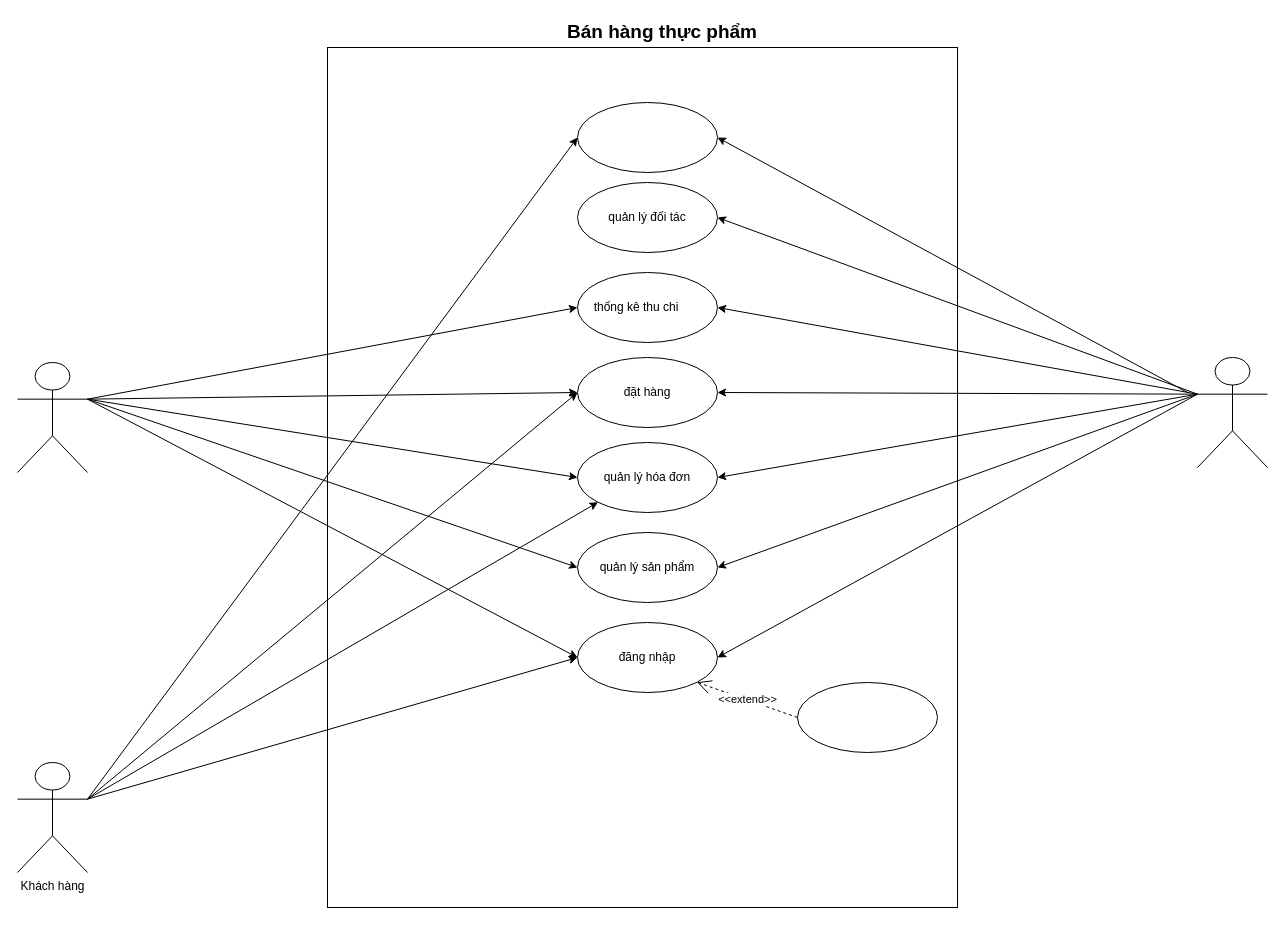
Image size: 1285x925. Some labels were removed from this diagram. Each missing label, with the centre of its shape:
Admin: the point at 1232,412
tạo tài khoản: the point at 647,137
Đối tác: the point at 52,417
đổi mật khẩu: the point at 867,717
